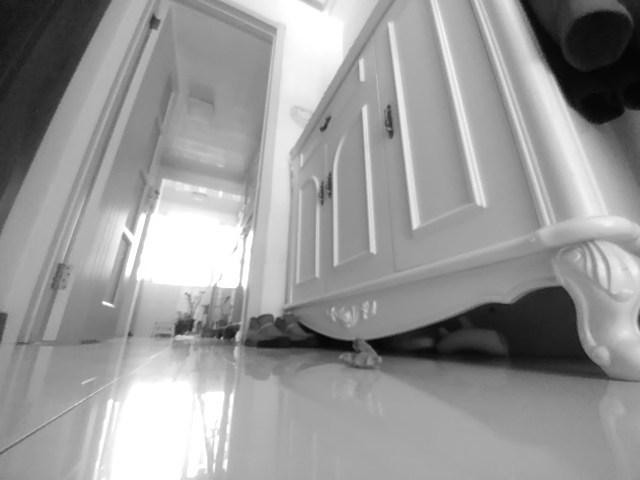pet feces: (338, 338, 383, 370)
shoe: (244, 314, 294, 345)
